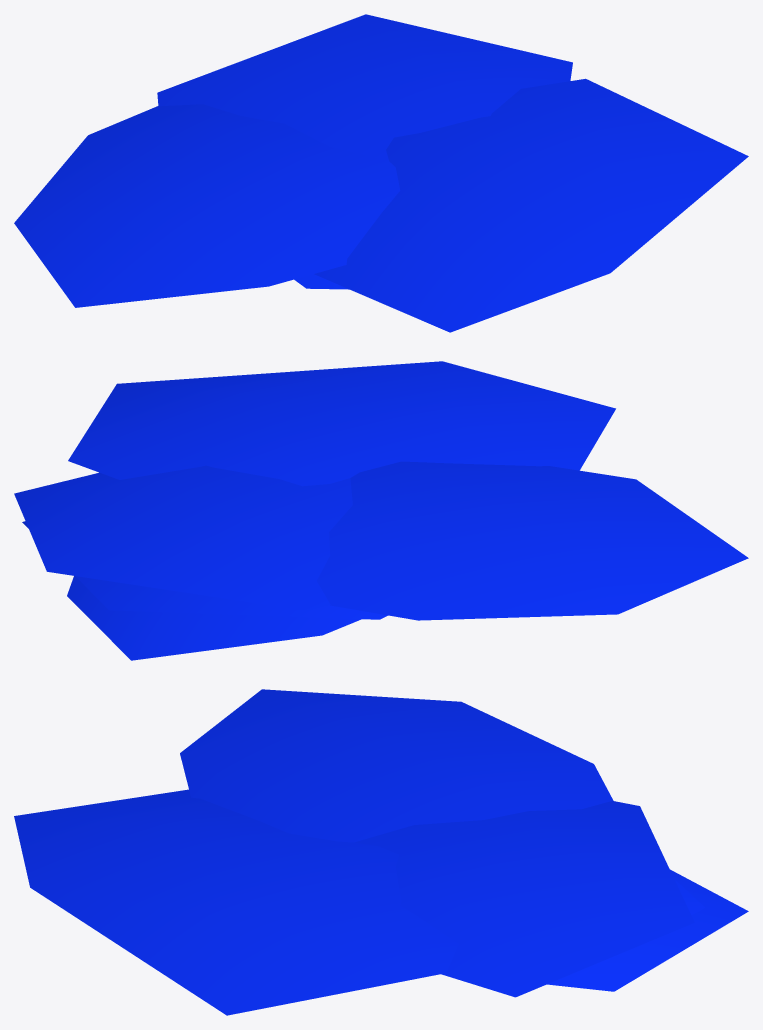
The model's file is DeadLeaves_2.fbx.
The picture shows the model from 3 angles, top to bottom: view 1: azimuth 30°, elevation 25°; view 2: azimuth 150°, elevation 25°; view 3: azimuth 270°, elevation 25°; orthographic projection. The views are drawn at different scales.
Parts seen in each view (by area): view 1: DeadLeaves2; view 2: DeadLeaves2; view 3: DeadLeaves2.
Boxes of the visible parts, bbox=[...] form: DeadLeaves2: bbox=[14, 14, 748, 332]; DeadLeaves2: bbox=[14, 361, 748, 660]; DeadLeaves2: bbox=[14, 689, 748, 1015].
Size of the model in its own units: 48.21 by 4.99 by 45.34.
